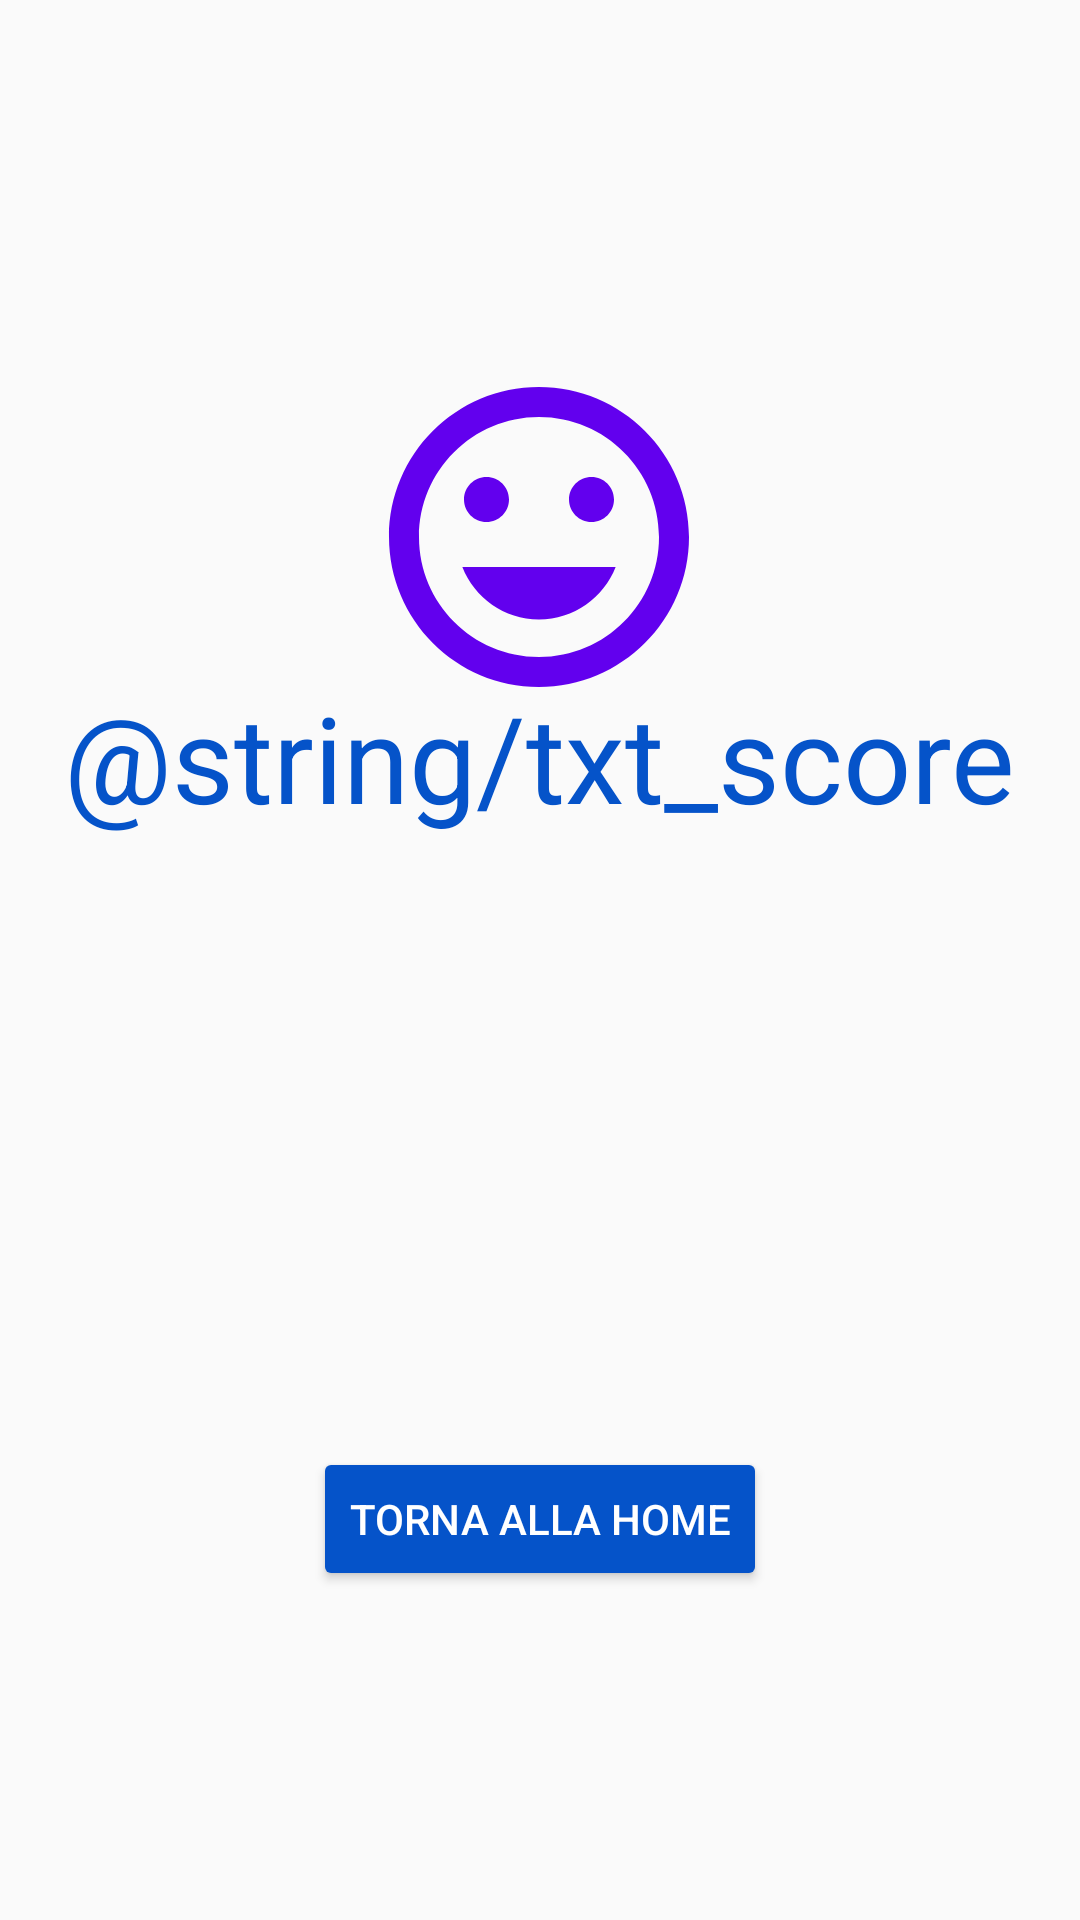

Point at icon controls on the screen. Image size 1080 × 1920, points as point (x, y).
insert emoticon: point (539, 537)
